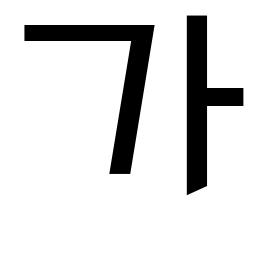Gaji: (174, 76, 228, 125)
